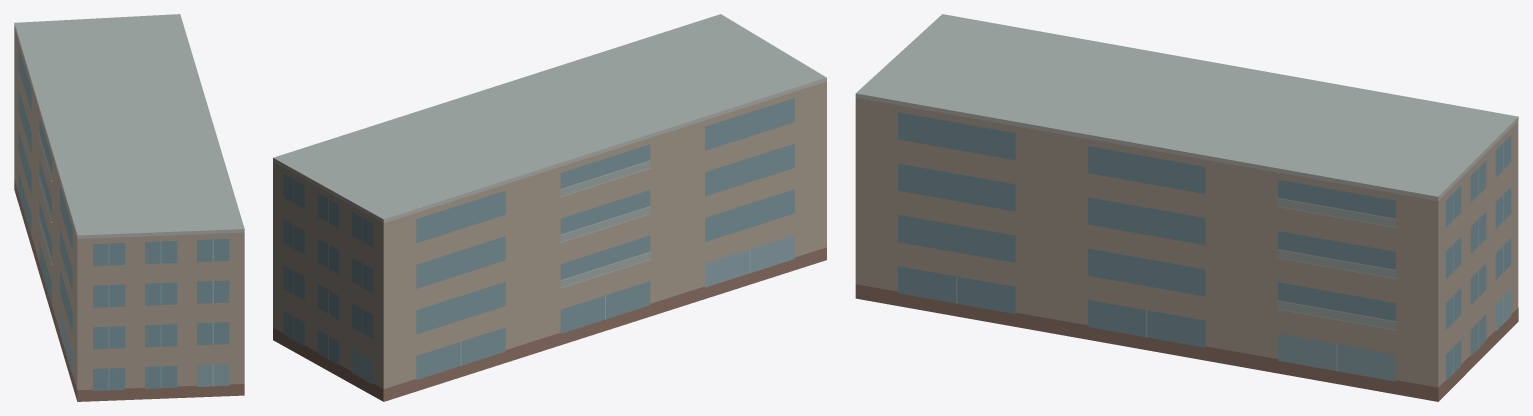
Rendered from survey-upis-32605448.glb.
3 renders of one model, left to right at view 1: azimuth 30°, elevation 25°; view 2: azimuth 150°, elevation 25°; view 3: azimuth 270°, elevation 25°, orthographic. The views are drawn at different scales.
Parts seen in each view (by area): view 1: survey-upis-32605448.tmp; view 2: survey-upis-32605448.tmp; view 3: survey-upis-32605448.tmp.
Part boxes in pixels (left/top/right/bottom): survey-upis-32605448.tmp: left=14, top=14, right=244, bottom=401; survey-upis-32605448.tmp: left=273, top=14, right=826, bottom=401; survey-upis-32605448.tmp: left=855, top=14, right=1518, bottom=401.
Size of the model in its own units: 22.18 by 11.6 by 33.99.
